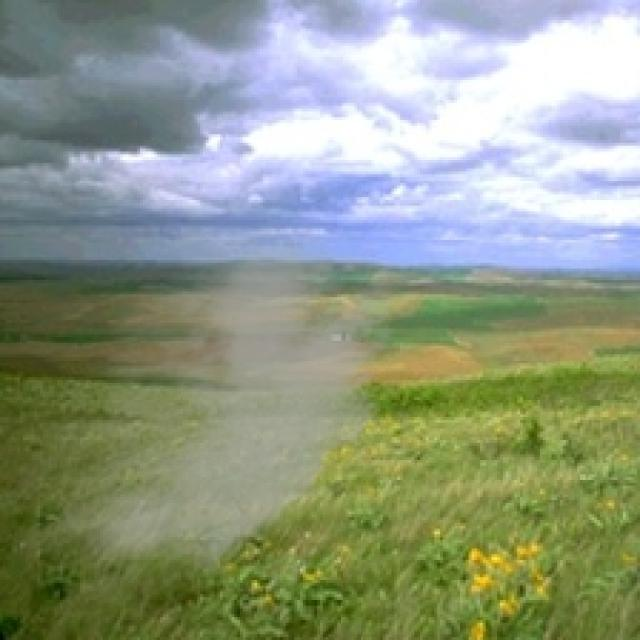smoke: (0, 214, 409, 617)
